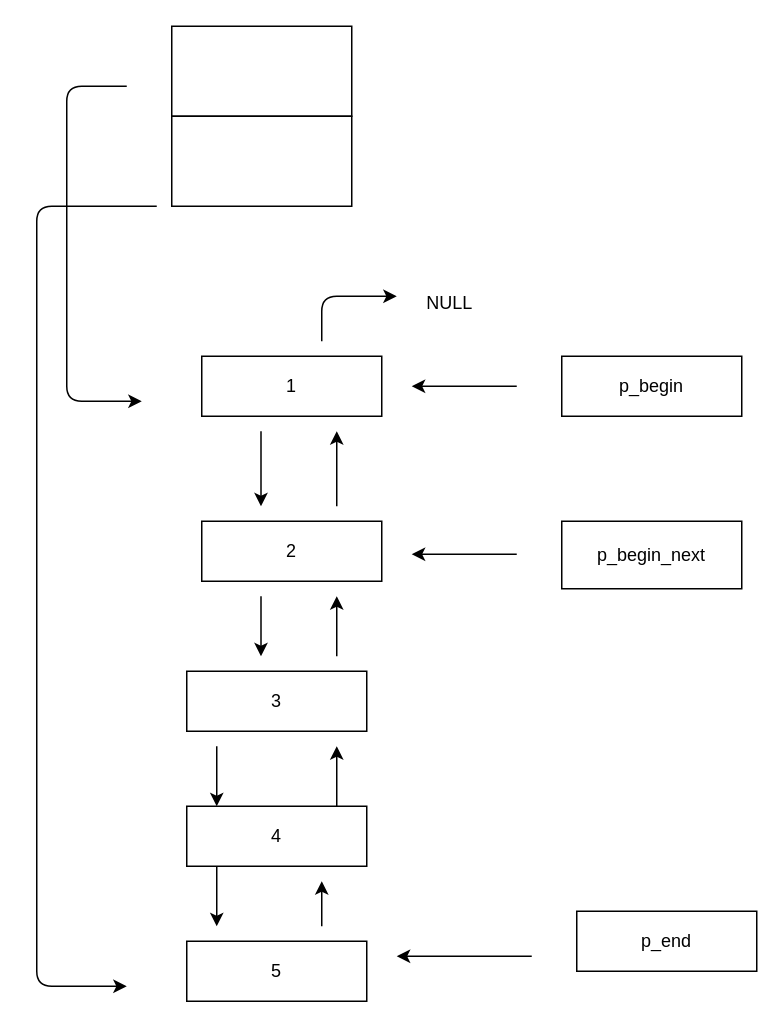
This 783x1028 diagram has some shape labels left out. Here are the shapes that lost their labels. From the top down, the box of each, then its label:
(170, 25, 352, 116): begin
(170, 115, 352, 206): end
